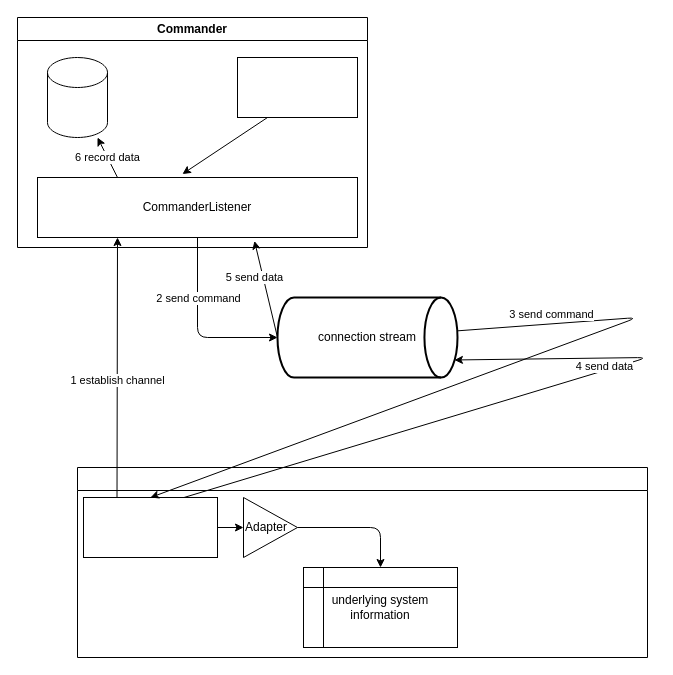
Image size: 673x675. Some labels were removed from this diagram. The shapes that lost their labels are listed below. From the top down, each one's box as (x1, y1, x2, y2) in pixels, then its label:
(236, 56, 358, 118): API Server
(82, 496, 218, 558): Agent
(76, 466, 648, 658): Client-side architecture
